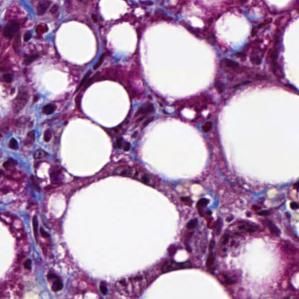inflammation: (5, 123, 56, 157), (178, 191, 221, 226), (42, 264, 68, 295), (37, 98, 62, 118)
